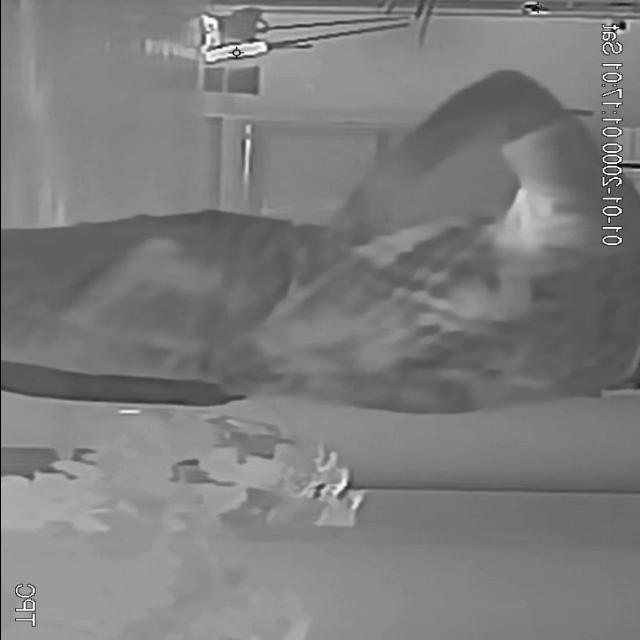Weapon: (46, 233, 226, 338)
